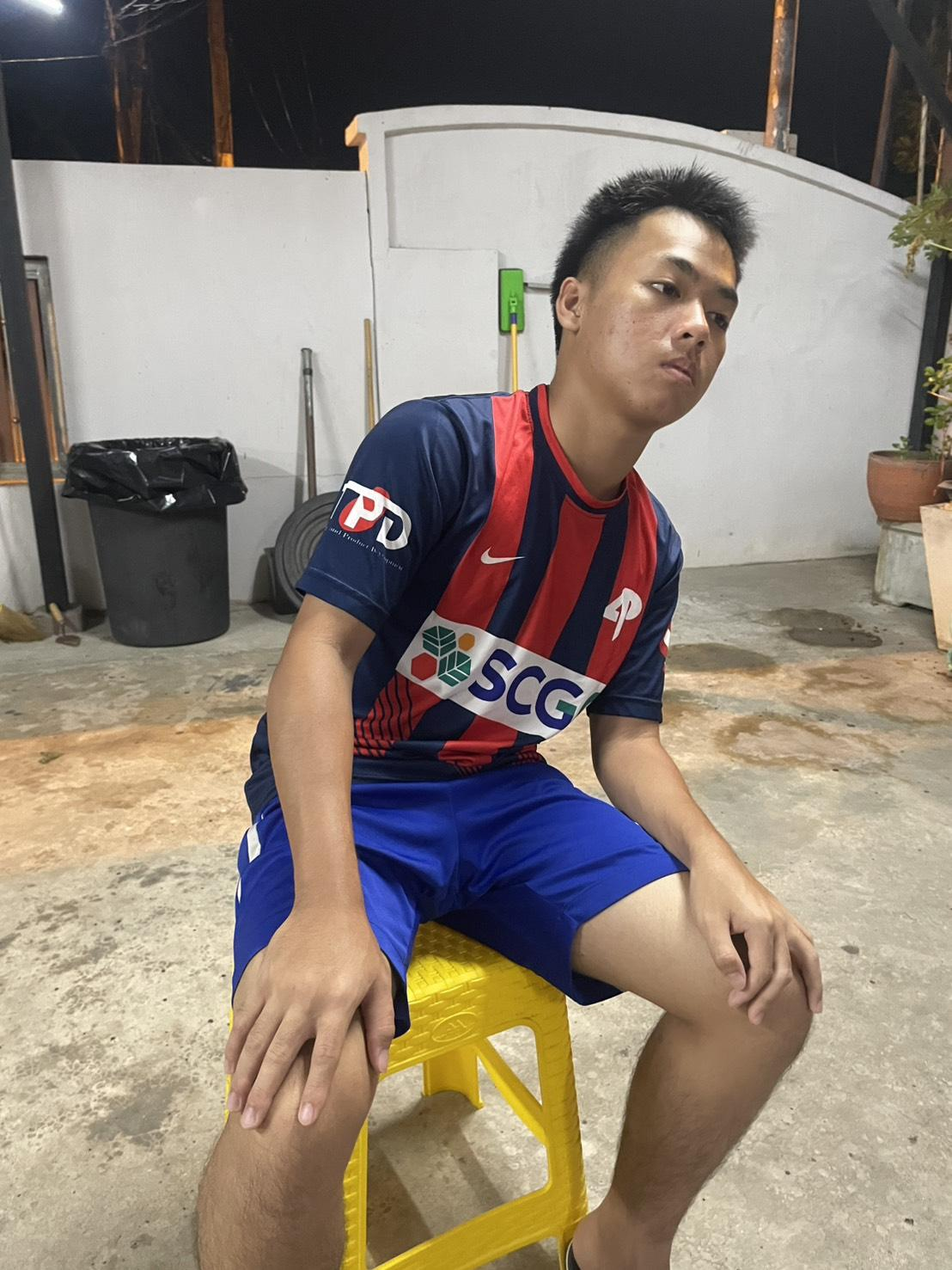BadPosture: (300, 166, 754, 781)
